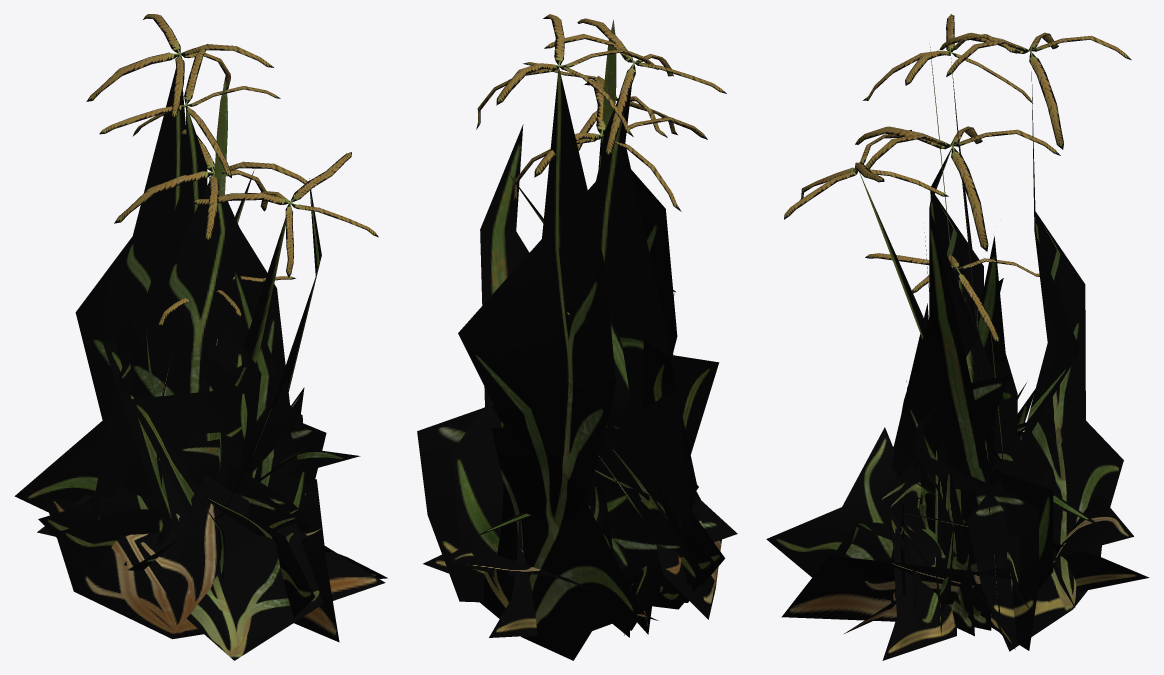
The model's file is grass_bermuda_01.fbx.
The picture shows the model from 3 angles, left to right: view 1: azimuth 30°, elevation 25°; view 2: azimuth 150°, elevation 25°; view 3: azimuth 270°, elevation 25°; orthographic projection. The views are drawn at different scales.
Parts seen in each view (by area): view 1: grass_bermuda_01_seedling_b, grass_bermuda_01_seedling_d, grass_bermuda_01_dead_b, grass_bermuda_01_seedling_a, grass_bermuda_01_medium_c, grass_bermuda_01_flattened_a, grass_bermuda_01_medium_b, grass_bermuda_01_dead_a, grass_bermuda_01_medium_d, grass_bermuda_01_small_a, grass_bermuda_01_medium_f, grass_bermuda_01_small_c (+8 smaller); view 2: grass_bermuda_01_seedling_d, grass_bermuda_01_seedling_a, grass_bermuda_01_seedling_b, grass_bermuda_01_medium_e, grass_bermuda_01_medium_c, grass_bermuda_01_medium_b, grass_bermuda_01_dead_b, grass_bermuda_01_small_b, grass_bermuda_01_medium_a, grass_bermuda_01_dead_a, grass_bermuda_01_small_d, grass_bermuda_01_small_a (+4 smaller); view 3: grass_bermuda_01_seedling_d, grass_bermuda_01_seedling_a, grass_bermuda_01_medium_c, grass_bermuda_01_seedling_b, grass_bermuda_01_dead_a, grass_bermuda_01_small_b, grass_bermuda_01_medium_a, grass_bermuda_01_seedling_c, grass_bermuda_01_flattened_a, grass_bermuda_01_medium_b, grass_bermuda_01_medium_d, grass_bermuda_01_small_c (+4 smaller).
Boxes of the visible parts, box(x1,y1,x2,y2) form: grass_bermuda_01_seedling_b: box(49, 129, 314, 535); grass_bermuda_01_seedling_d: box(14, 14, 378, 512); grass_bermuda_01_dead_b: box(44, 476, 385, 639); grass_bermuda_01_seedling_a: box(89, 47, 321, 570); grass_bermuda_01_medium_c: box(129, 388, 315, 617); grass_bermuda_01_flattened_a: box(186, 523, 323, 660); grass_bermuda_01_medium_b: box(103, 342, 248, 545); grass_bermuda_01_dead_a: box(37, 479, 339, 642); grass_bermuda_01_medium_d: box(124, 251, 306, 565); grass_bermuda_01_small_a: box(56, 509, 163, 569); grass_bermuda_01_medium_f: box(143, 170, 261, 486); grass_bermuda_01_small_c: box(189, 466, 310, 581); grass_bermuda_01_seedling_d: box(458, 14, 677, 660); grass_bermuda_01_seedling_a: box(452, 18, 737, 578); grass_bermuda_01_seedling_b: box(417, 80, 707, 630); grass_bermuda_01_medium_e: box(450, 414, 693, 573); grass_bermuda_01_medium_c: box(489, 355, 719, 637); grass_bermuda_01_medium_b: box(642, 339, 697, 510); grass_bermuda_01_dead_b: box(656, 491, 721, 619); grass_bermuda_01_small_b: box(593, 467, 715, 609); grass_bermuda_01_medium_a: box(605, 316, 698, 489); grass_bermuda_01_dead_a: box(462, 539, 658, 620); grass_bermuda_01_small_d: box(604, 433, 667, 634); grass_bermuda_01_small_a: box(423, 509, 725, 602); grass_bermuda_01_seedling_d: box(784, 32, 1131, 651); grass_bermuda_01_seedling_a: box(863, 14, 1053, 618); grass_bermuda_01_medium_c: box(766, 303, 1149, 636); grass_bermuda_01_seedling_b: box(855, 126, 1060, 650); grass_bermuda_01_dead_a: box(781, 494, 1133, 621); grass_bermuda_01_small_b: box(882, 422, 1026, 660); grass_bermuda_01_medium_a: box(921, 236, 1017, 536); grass_bermuda_01_seedling_c: box(865, 253, 1039, 455); grass_bermuda_01_flattened_a: box(833, 494, 1101, 560); grass_bermuda_01_medium_b: box(955, 278, 1003, 630); grass_bermuda_01_medium_d: box(924, 232, 953, 612); grass_bermuda_01_small_c: box(877, 389, 1035, 624).
Size of the model in its own units: 0.0827 by 0.1522 by 0.0916.
1 material, 1 textured.
